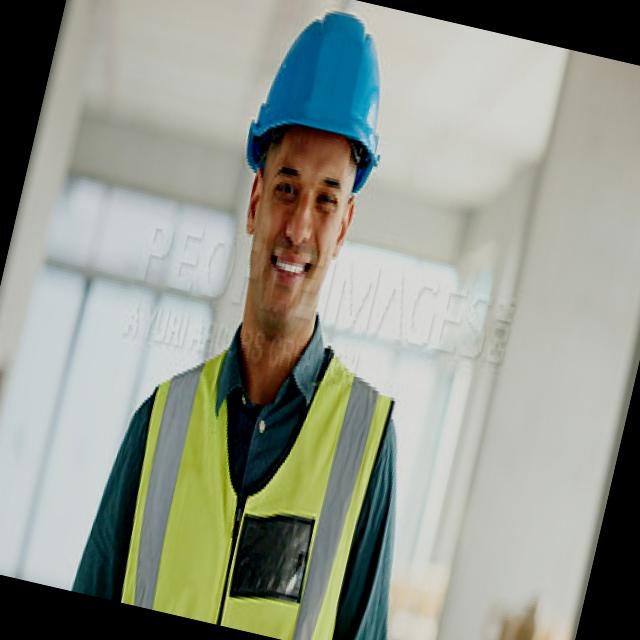helmet: (245, 5, 400, 179)
no-goggles: (252, 144, 360, 233)
vest: (102, 306, 407, 640)
